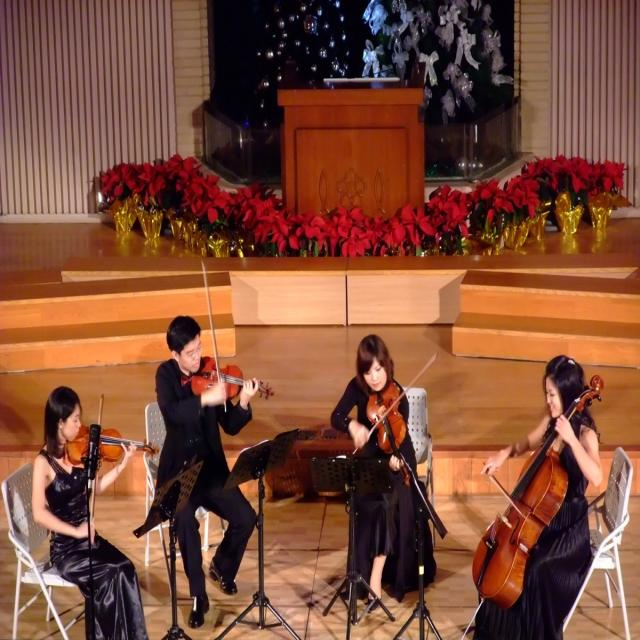cello: (470, 375, 612, 611)
violin: (367, 381, 420, 489), (186, 352, 277, 408), (58, 422, 168, 460)
